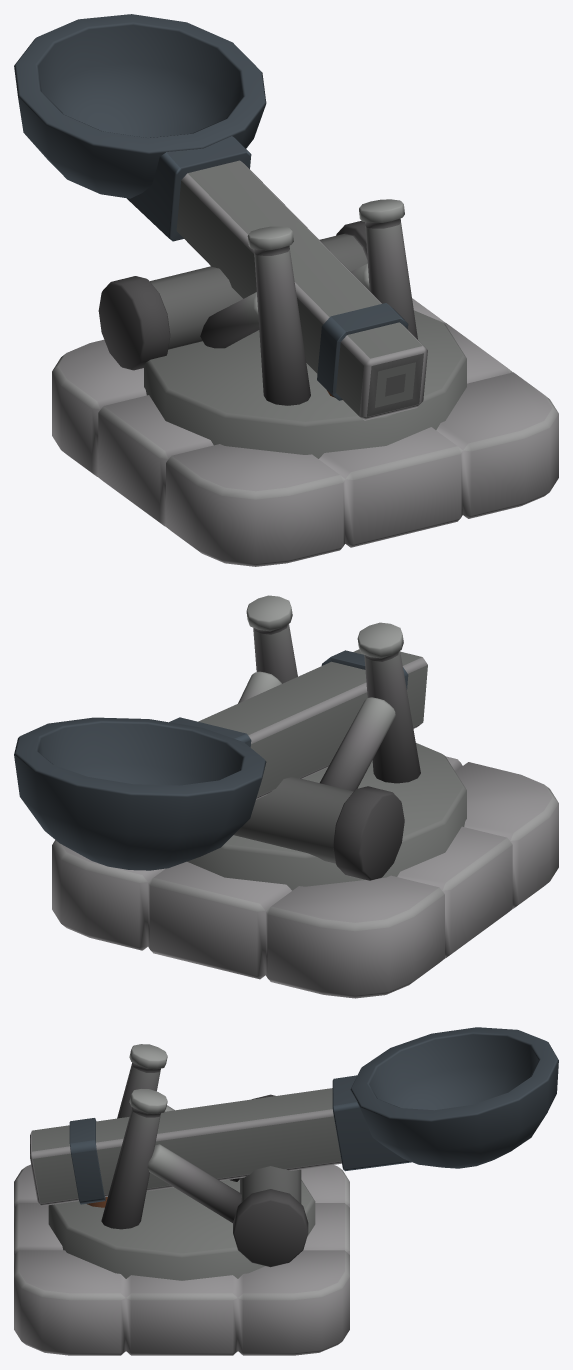
File: CatapulMini_2.fbx
3 renders of one model, top to bottom at view 1: azimuth 30°, elevation 25°; view 2: azimuth 150°, elevation 25°; view 3: azimuth 270°, elevation 25°, orthographic. The views are drawn at different scales.
Parts seen in each view (by area): view 1: CatapulMini_2, CattapultHead 2; view 2: CatapulMini_2, CattapultHead 2; view 3: CatapulMini_2, CattapultHead 2.
Part boxes in pixels (x1,y1,x2,y2): CatapulMini_2: [52, 199, 558, 566]; CattapultHead 2: [14, 14, 427, 420]; CatapulMini_2: [52, 595, 558, 998]; CattapultHead 2: [14, 649, 427, 870]; CatapulMini_2: [14, 1044, 349, 1355]; CattapultHead 2: [30, 1027, 558, 1206].
Size of the model in its own units: 195 by 146 by 316.
